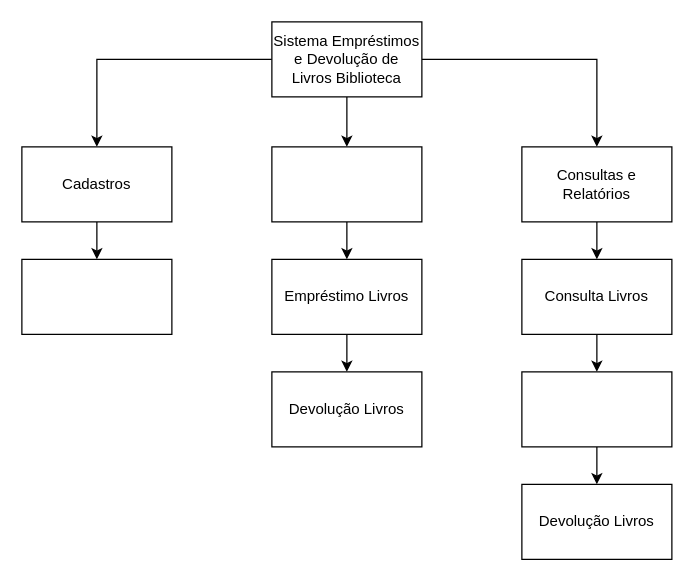
Some shapes in this 694 by 581 pixel diagram are drawn without their labels. The shapes that lost their labels are listed below. From the top down, each one's centre as x and y in pixels, then its label:
At point 346,184: "Processos".
At point 96,296: "Cadastro Livros".
At point 596,409: "Consulta Empréstimos".
